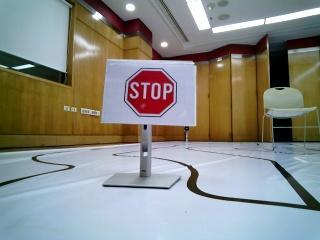stop: (109, 60, 188, 125)
